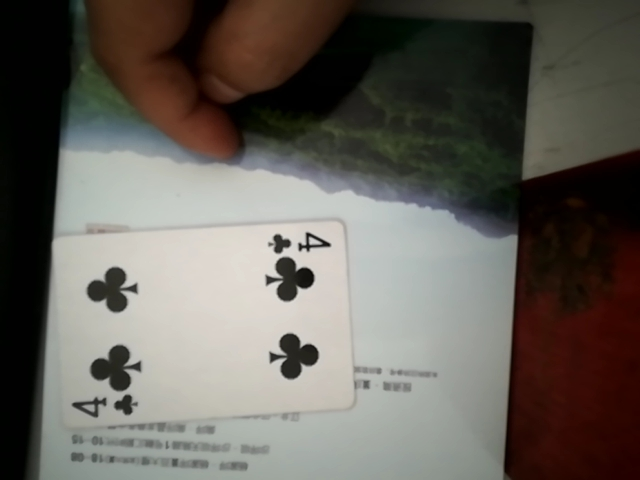mh 4: (52, 209, 359, 432)
